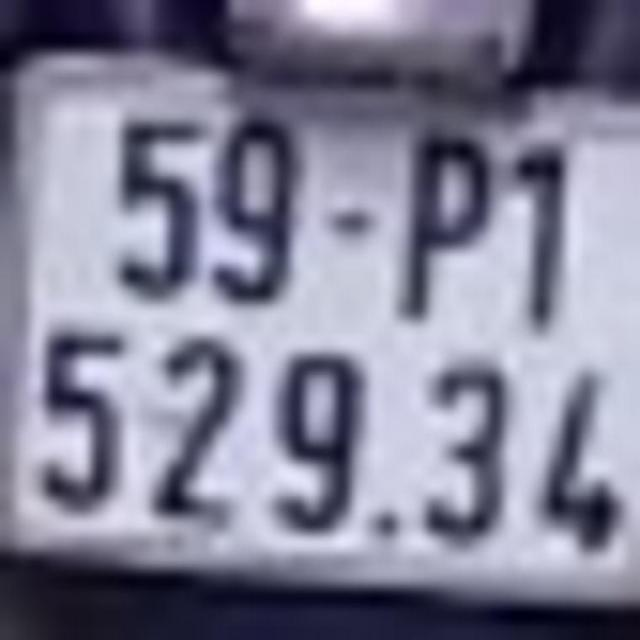1: (508, 144, 567, 334)
2: (150, 337, 242, 530)
3: (421, 358, 504, 548)
4: (538, 364, 628, 558)
5: (38, 329, 125, 513), (117, 115, 205, 295)
9: (270, 350, 357, 540), (212, 121, 298, 304)
P: (399, 132, 492, 319)
